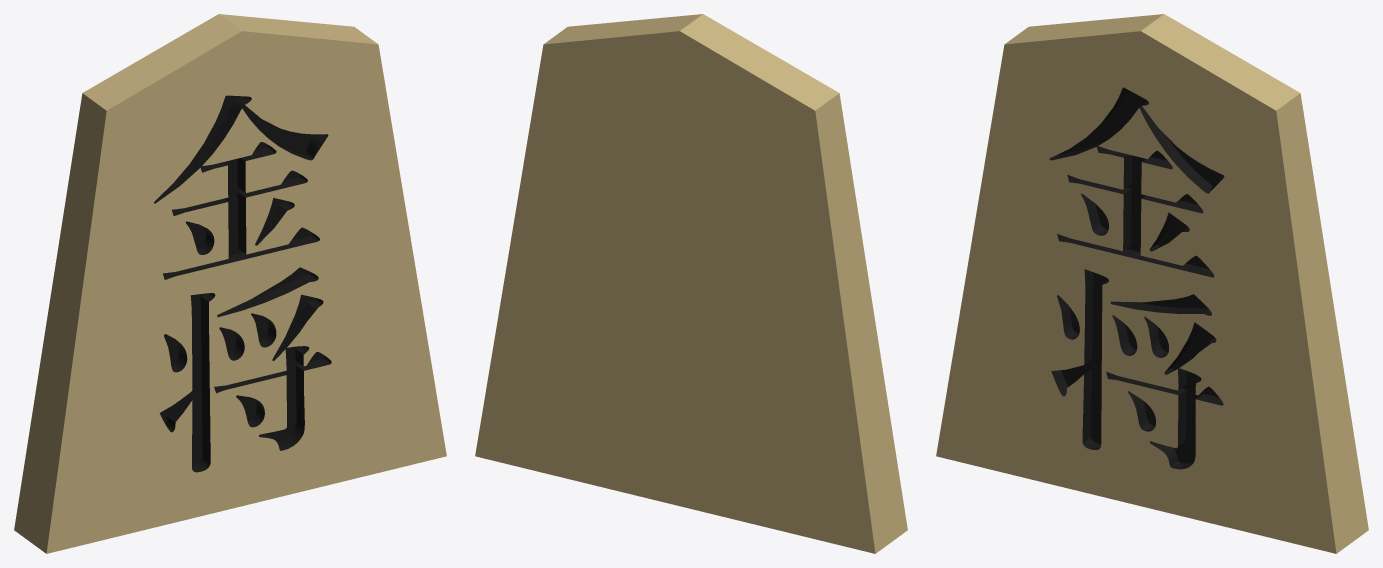
3 renders of one model, left to right at view 1: azimuth 30°, elevation 25°; view 2: azimuth 150°, elevation 25°; view 3: azimuth 330°, elevation 25°, orthographic.
Visible parts, largest first — view 1: kin; view 2: kin; view 3: kin.
Boxes of the visible parts, x1,y1,x2,y2 form: kin: (14, 14, 446, 553); kin: (475, 14, 907, 553); kin: (936, 14, 1368, 553).
Bounding box in the file's own units: 0.0285 × 0.032 × 0.004.
